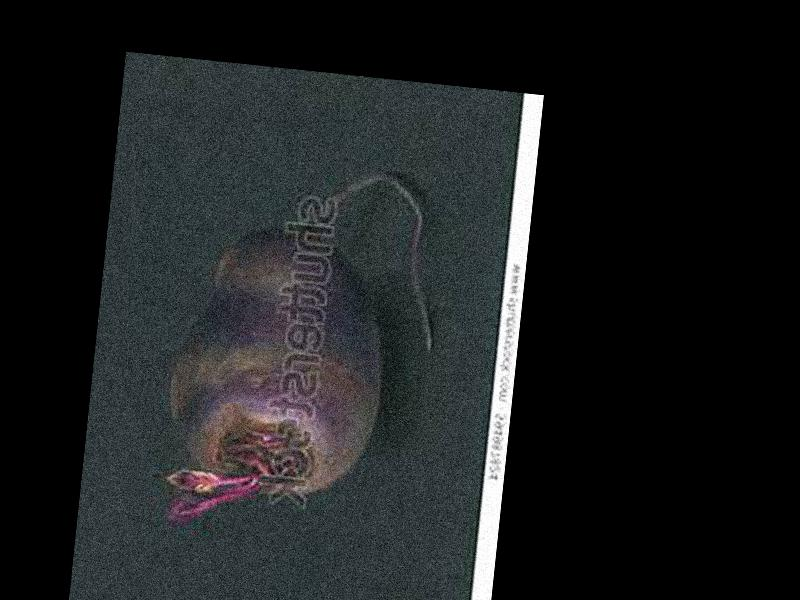Beet: (154, 154, 448, 553)
